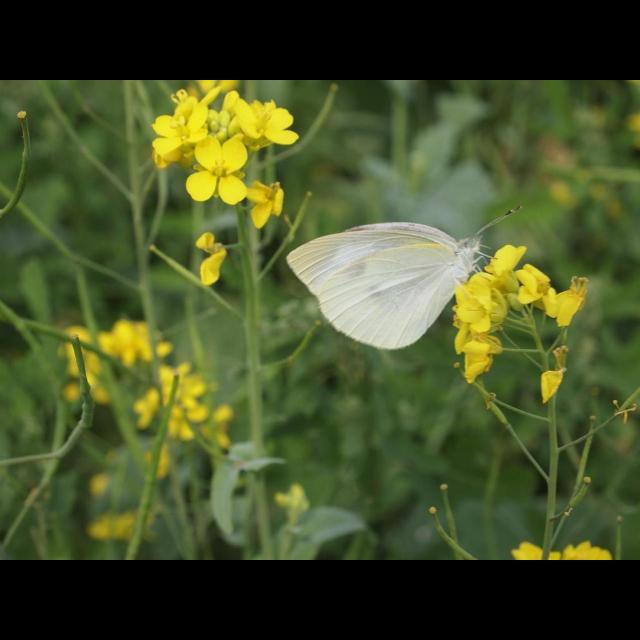Flower: (442, 202, 578, 414), (72, 314, 236, 448), (152, 80, 302, 226), (194, 232, 232, 286), (92, 509, 142, 539), (562, 540, 612, 560), (516, 538, 560, 558), (153, 447, 169, 478), (86, 473, 108, 492)
